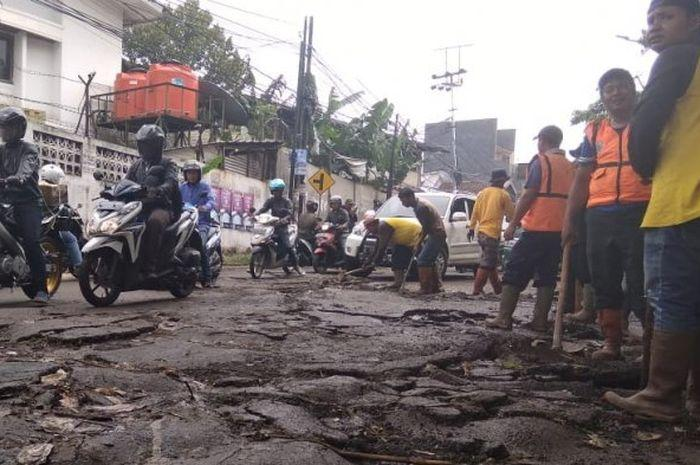Pothole: (5, 286, 675, 465)
